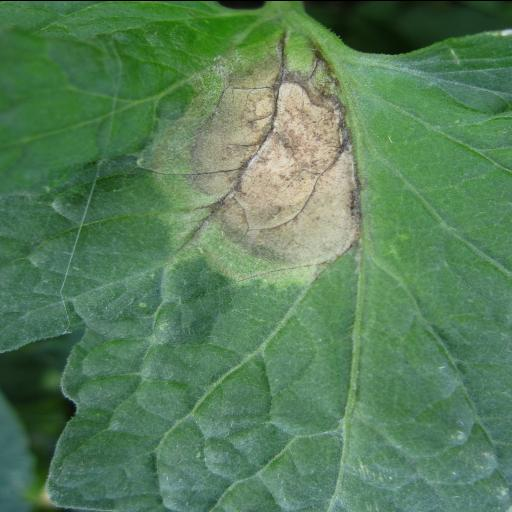disease_tomato: (8, 4, 496, 508)
